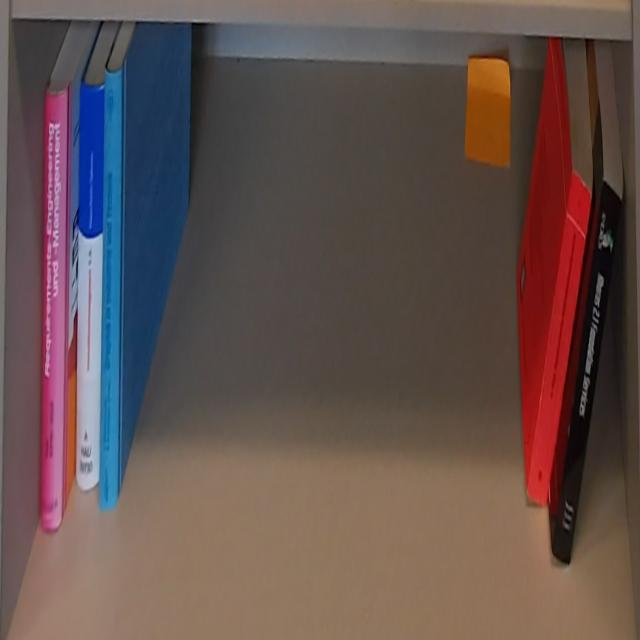Book Spine: (550, 177, 624, 564), (524, 163, 594, 506), (41, 84, 68, 534), (98, 53, 124, 513), (77, 84, 101, 490)
